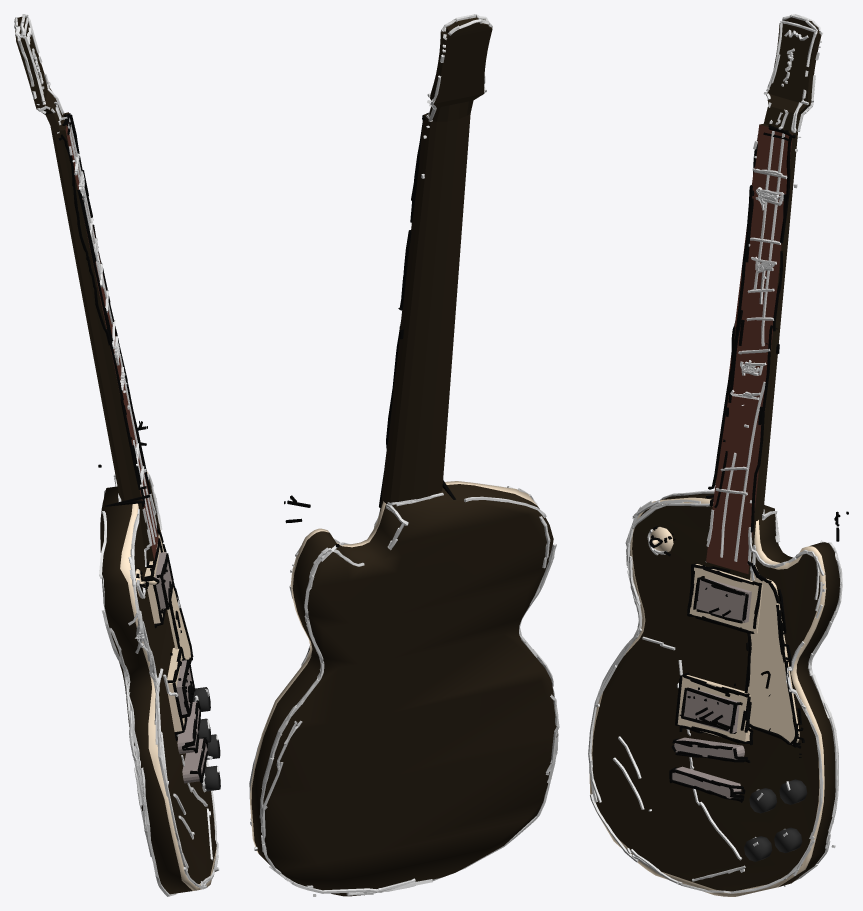
Rendered from guitar.glb.
3 renders of one model, left to right at view 1: azimuth 30°, elevation 25°; view 2: azimuth 150°, elevation 25°; view 3: azimuth 270°, elevation 25°, orthographic. The views are drawn at different scales.
Parts seen in each view (by area): view 1: guitar_, lines_white_guitar, lines_black_guitar; view 2: guitar_, lines_white_guitar, lines_black_guitar; view 3: guitar_, lines_white_guitar, lines_black_guitar.
Boxes of the visible parts, x1,y1,x2,y2 form: guitar_: (15,16,220,894); lines_white_guitar: (14,14,219,896); lines_black_guitar: (58,113,208,782); guitar_: (250,17,557,896); lines_white_guitar: (249,14,559,896); lines_black_guitar: (284,112,455,653); guitar_: (589,17,840,896); lines_white_guitar: (588,14,842,893); lines_black_guitar: (649,125,848,802).
Size of the model in its own units: 0.4913 by 1.92 by 0.556.
